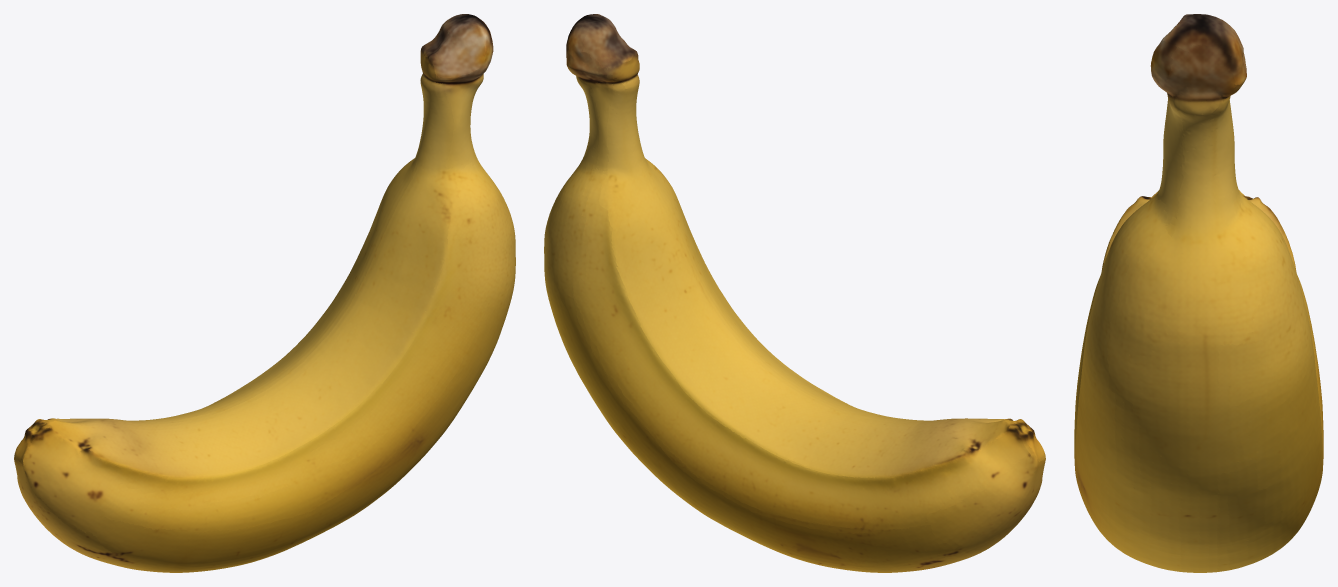
The picture shows the model from 3 angles, left to right: view 1: azimuth 30°, elevation 25°; view 2: azimuth 150°, elevation 25°; view 3: azimuth 270°, elevation 25°; orthographic projection. The views are drawn at different scales.
Visible parts, largest first — view 1: world; view 2: world; view 3: world.
Part boxes in pixels (x1=…): world: x1=14, y1=14, x2=515, y2=572; world: x1=544, y1=14, x2=1045, y2=572; world: x1=1074, y1=14, x2=1323, y2=572.
Bounding box in the file's own units: 0.2 × 0.1881 × 0.0627.
1 material, 1 textured.
